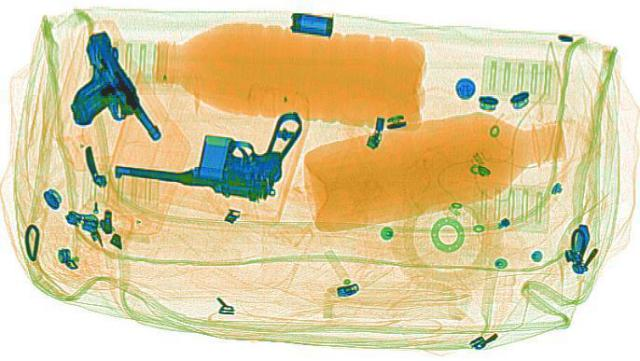Gun: (104, 91, 312, 200), (27, 28, 171, 150)
